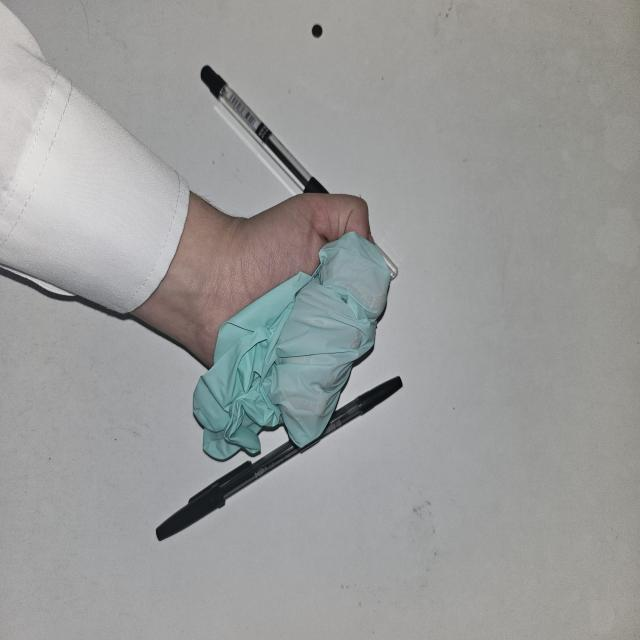glove_partial: (190, 191, 392, 462)
